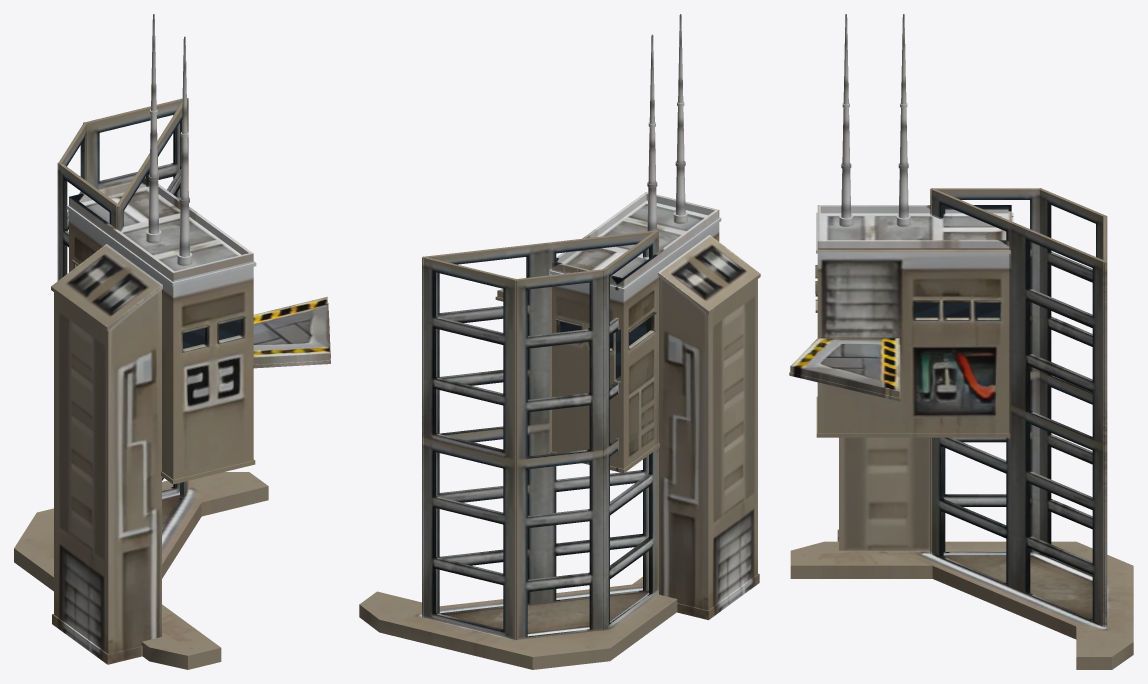
File: gantry_cad.glb
3 renders of one model, left to right at view 1: azimuth 30°, elevation 25°; view 2: azimuth 150°, elevation 25°; view 3: azimuth 270°, elevation 25°, orthographic. The views are drawn at different scales.
Parts seen in each view (by area): view 1: Gantry; view 2: Gantry; view 3: Gantry.
Boxes of the visible parts, box(x1,y1,x2,y2) form: Gantry: box(14, 14, 330, 669); Gantry: box(359, 14, 760, 669); Gantry: box(789, 14, 1133, 669).
Bounding box in the file's own units: 18.57 × 36.98 × 20.56.
Materials: 1 (1 with a texture image).
